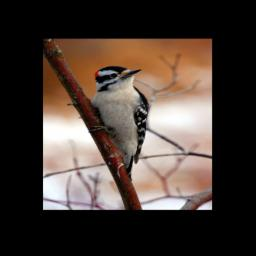Woodpecker: (87, 66, 149, 181)
